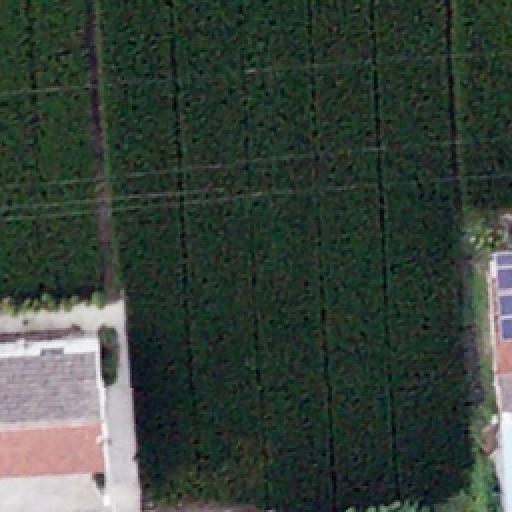solar-panel: (496, 255, 512, 337)
